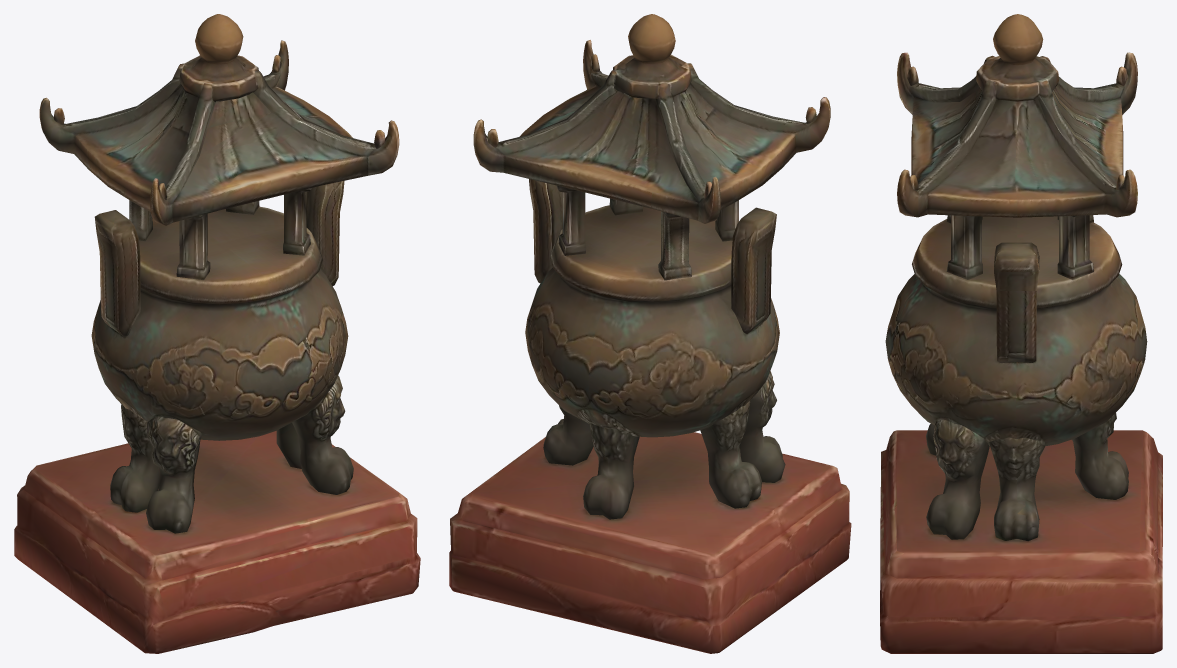
File: SM_Prop_DesertIncenseBurner.glb
3 views of the same model, side by side, from view 1: azimuth 30°, elevation 25°; view 2: azimuth 150°, elevation 25°; view 3: azimuth 270°, elevation 25° (orthographic). The views are drawn at different scales.
Parts seen in each view (by area): view 1: SM_Prop_DesertIncenseBurner_LOD0; view 2: SM_Prop_DesertIncenseBurner_LOD0; view 3: SM_Prop_DesertIncenseBurner_LOD0.
Boxes of the visible parts, box(x1,y1,x2,y2) form: SM_Prop_DesertIncenseBurner_LOD0: box(14, 14, 420, 653); SM_Prop_DesertIncenseBurner_LOD0: box(449, 14, 851, 653); SM_Prop_DesertIncenseBurner_LOD0: box(880, 14, 1162, 653).
Size of the model in its own units: 1.33 by 2.6 by 1.16.
1 material, 1 textured.
